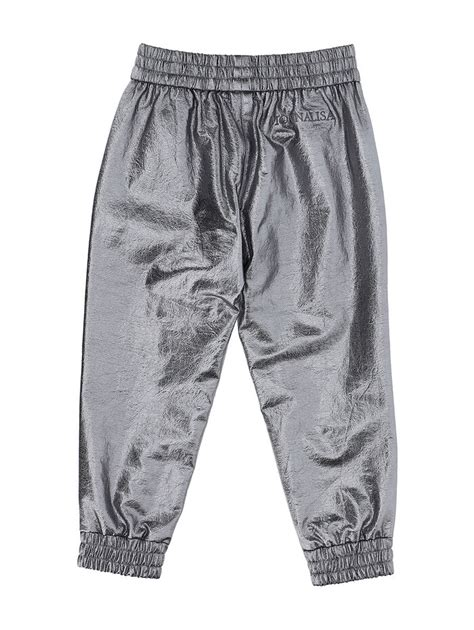nylon: (78, 42, 401, 585)
